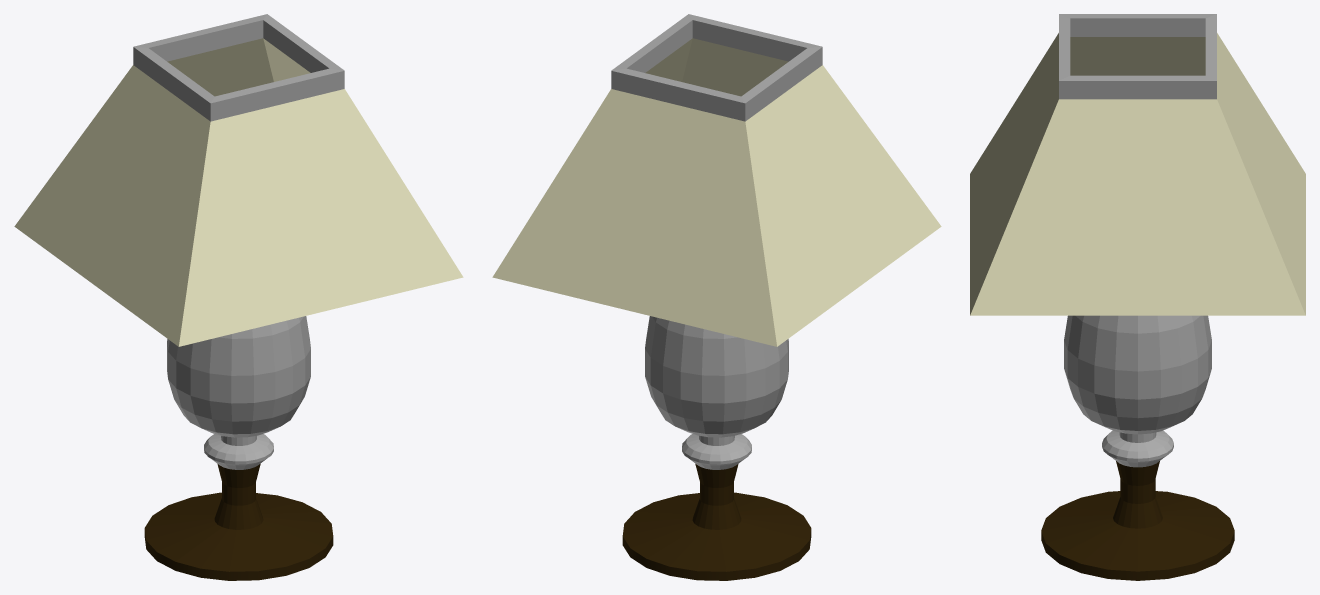
File: Table_Lamp_Updated.fbx
3 views of the same model, side by side, from view 1: azimuth 30°, elevation 25°; view 2: azimuth 150°, elevation 25°; view 3: azimuth 270°, elevation 25° (orthographic). The views are drawn at different scales.
Visible parts, largest first — view 1: TableLamp:pCube2; view 2: TableLamp:pCube2; view 3: TableLamp:pCube2.
Part boxes in pixels (left/top/right/bottom): TableLamp:pCube2: left=14, top=14, right=463, bottom=580; TableLamp:pCube2: left=492, top=14, right=941, bottom=580; TableLamp:pCube2: left=970, top=14, right=1305, bottom=580.
Size of the model in its own units: 0.3727 by 0.6037 by 0.3727.
